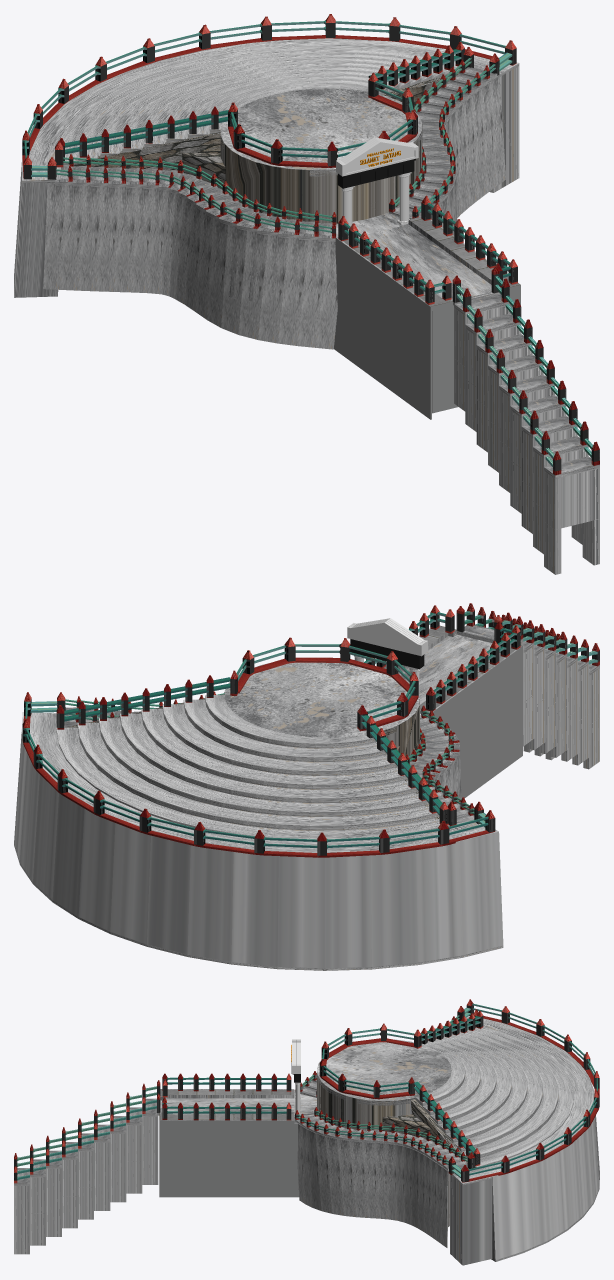
Rendered from Penanjakan Baru.fbx.
3 views of the same model, one above another, from view 1: azimuth 30°, elevation 25°; view 2: azimuth 150°, elevation 25°; view 3: azimuth 270°, elevation 25° (orthographic). The views are drawn at different scales.
Parts seen in each view (by area): view 1: Cube.030, Cube.012, Plane.002, Cylinder.001, Cube, Cube.001, Cube.013, Cube.002, Cube.029, Cube.014, Cube.006, Cube.005 (+7 smaller); view 2: Cube.001, Cube, Cylinder.001, Cube.012, Plane.002, Cube.002, Cube.006, Cube.013, Cube.007, Cube.019, Cube.005, Cube.025 (+5 smaller); view 3: Cube.001, Plane.002, Cube.012, Cube, Cube.029, Cylinder.001, Cube.002, Cube.014, Cube.006, Cube.023, Cube.025, Cube.007 (+4 smaller).
Part boxes in pixels (box(x1,y1,x2,y2)): Cube.030: box(43, 183, 337, 349); Cube.012: box(454, 276, 599, 574); Plane.002: box(334, 212, 520, 419); Cylinder.001: box(220, 88, 422, 223); Cube: box(63, 49, 458, 164); Cube.001: box(14, 38, 519, 297); Cube.013: box(54, 153, 336, 241); Cube.002: box(22, 14, 516, 177); Cube.029: box(431, 75, 505, 235); Cube.014: box(389, 58, 497, 219); Cube.006: box(228, 81, 417, 167); Cube.005: box(59, 106, 228, 160); Cube.001: box(14, 712, 503, 970); Cube: box(56, 695, 449, 839); Cylinder.001: box(224, 662, 419, 762); Cube.012: box(464, 603, 599, 769); Plane.002: box(383, 625, 522, 798); Cube.002: box(22, 692, 494, 857); Cube.006: box(236, 637, 418, 731); Cube.013: box(405, 705, 474, 823); Cube.007: box(57, 675, 230, 729); Cube.019: box(347, 618, 427, 656); Cube.005: box(361, 715, 448, 825); Cube.025: box(433, 625, 520, 704); Cube.001: box(450, 1016, 599, 1265); Plane.002: box(159, 1089, 316, 1197); Cube.012: box(14, 1083, 158, 1254); Cube: box(415, 1027, 573, 1167); Cube.029: box(297, 1123, 448, 1247); Cylinder.001: box(317, 1039, 451, 1131); Cube.002: box(461, 1003, 599, 1182); Cube.014: box(295, 1107, 467, 1171); Cube.006: box(319, 1023, 421, 1099); Cube.023: box(162, 1102, 286, 1120); Cube.025: box(162, 1073, 286, 1091); Cube.007: box(413, 1081, 480, 1166).
Size of the model in its own units: 66.04 by 36 by 94.09.
